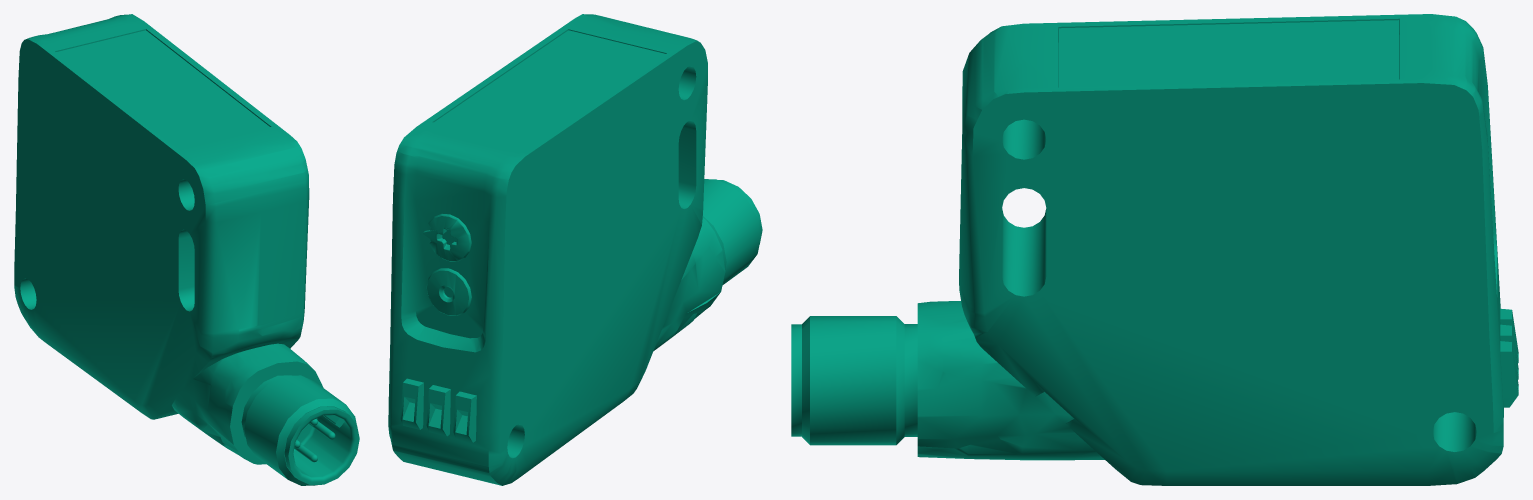
Rendered from OMT300-R200-2EP-IO-V1.dae.
3 renders of one model, left to right at view 1: azimuth 30°, elevation 25°; view 2: azimuth 150°, elevation 25°; view 3: azimuth 270°, elevation 25°, orthographic. The views are drawn at different scales.
Visible parts, largest first — view 1: _Distance_sensor_10001733_0; view 2: _Distance_sensor_10001733_0; view 3: _Distance_sensor_10001733_0.
Boxes of the visible parts, x1,y1,x2,y2 form: _Distance_sensor_10001733_0: (14, 14, 359, 485); _Distance_sensor_10001733_0: (388, 14, 762, 485); _Distance_sensor_10001733_0: (791, 14, 1518, 485).
Bounding box in the file's own units: 15.1 × 41.71 × 67.4.
